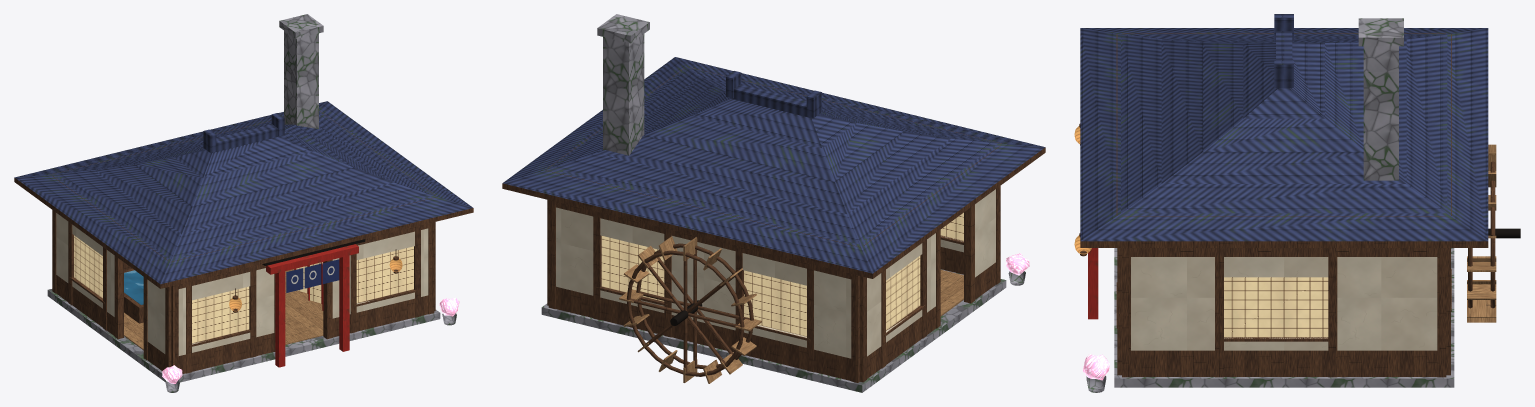
File: house_bath.gltf
3 renders of one model, left to right at view 1: azimuth 30°, elevation 25°; view 2: azimuth 150°, elevation 25°; view 3: azimuth 270°, elevation 25°, orthographic. The views are drawn at different scales.
Visible parts, largest first — view 1: Building; view 2: Building, WaterWheel; view 3: Building, WaterWheel.
Part boxes in pixels (<box>): Building: <box>14,14,473,392</box>; Building: <box>502,14,1045,392</box>; WaterWheel: <box>619,236,761,383</box>; Building: <box>1074,14,1488,392</box>; WaterWheel: <box>1467,144,1520,322</box>.
Size of the model in its own units: 15.6 by 11.9 by 13.78.
Materials: 15 (15 with a texture image).
